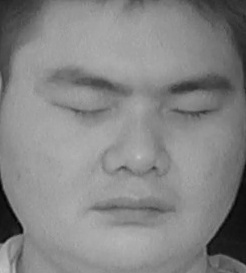blink: (57, 92, 113, 128), (168, 95, 216, 130)
mouth: (85, 181, 180, 233)
